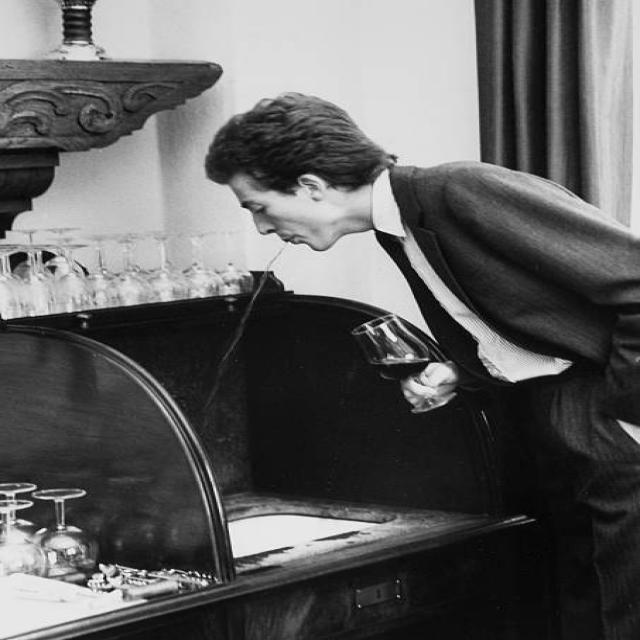Spitting: (179, 97, 392, 346)
